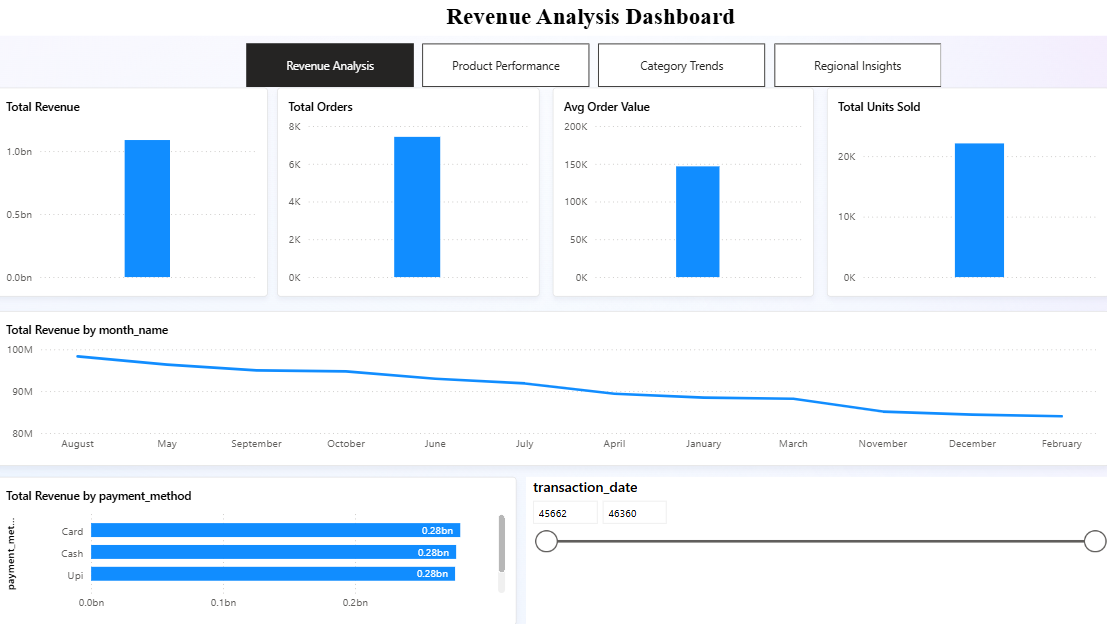

The dashboard page shown, as its layout file describes it:
{"tool":"powerbi","page":{"name":"Revenue Analysis","canvas":[1280,720],"ordinal":0},"visuals":[{"type":"clusteredColumnChart","fields":{"Y":["cleaned_retail_data.Total Revenue"]},"box":[0,102.9,313.4,239.6],"z":0},{"type":"clusteredColumnChart","fields":{"Y":["cleaned_retail_data.Total Orders"]},"box":[324.1,102.9,301.1,239.6],"z":1000},{"type":"clusteredColumnChart","fields":{"Y":["cleaned_retail_data.Avg Order Value"]},"box":[640.6,102.9,299.5,239.6],"z":2000},{"type":"clusteredColumnChart","fields":{"Y":["cleaned_retail_data.Total Units Sold"]},"box":[955.5,102.9,324.1,239.6],"z":3000},{"type":"lineChart","fields":{"Category":["cleaned_retail_data.month_name"],"Y":["cleaned_retail_data.Total Revenue"]},"box":[0,359.5,1279.6,178.2],"z":4000},{"type":"clusteredBarChart","fields":{"Category":["cleaned_retail_data.payment_method"],"Y":["cleaned_retail_data.Total Revenue"]},"box":[0,549.9,599.1,170.5],"z":5000},{"type":"slicer","fields":{"Values":["cleaned_retail_data.transaction_date"]},"box":[609.8,549.9,669.8,170.5],"z":6000},{"type":"pageNavigator","box":[288.8,52.2,800.3,50.7],"z":7000},{"type":"textbox","box":[0,0,1279.6,43],"z":7001}]}

Visuals, with their boxes in screenshot pixels (x1, y1, x2, y2), scaled from the page's 1280x720 canvas onto the 1107x624 screenshot:
clusteredColumnChart - cleaned_retail_data.Total Revenue: [0, 89, 271, 297]
clusteredColumnChart - cleaned_retail_data.Total Orders: [280, 89, 541, 297]
clusteredColumnChart - cleaned_retail_data.Avg Order Value: [554, 89, 813, 297]
clusteredColumnChart - cleaned_retail_data.Total Units Sold: [826, 89, 1106, 297]
lineChart - cleaned_retail_data.month_name x cleaned_retail_data.Total Revenue: [0, 312, 1106, 466]
clusteredBarChart - cleaned_retail_data.payment_method x cleaned_retail_data.Total Revenue: [0, 477, 518, 623]
slicer - cleaned_retail_data.transaction_date: [527, 477, 1106, 623]
pageNavigator: [250, 45, 942, 89]
textbox: [0, 0, 1106, 37]
